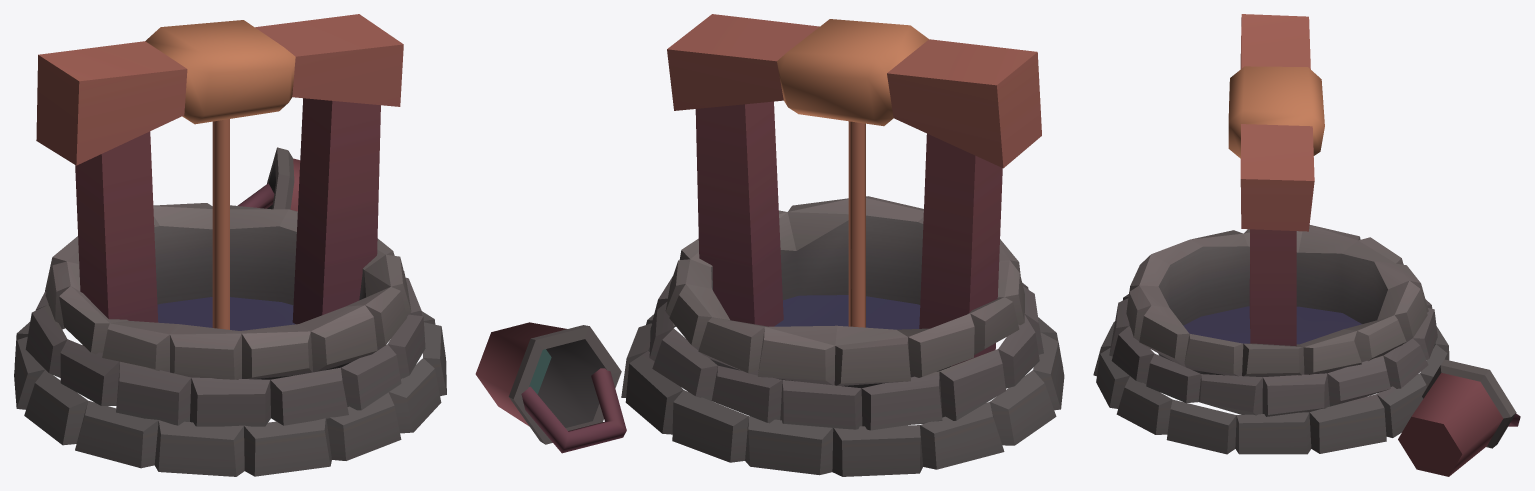
File: well.gltf
3 views of the same model, side by side, from view 1: azimuth 30°, elevation 25°; view 2: azimuth 150°, elevation 25°; view 3: azimuth 270°, elevation 25° (orthographic). The views are drawn at different scales.
Parts seen in each view (by area): view 1: well; view 2: well; view 3: well.
Boxes of the visible parts, x1=… form: well: x1=14, y1=14, x2=446, y2=476; well: x1=475, y1=14, x2=1064, y2=476; well: x1=1093, y1=14, x2=1520, y2=476.
Size of the model in its own units: 0.9228 by 0.7184 by 0.9351.
1 material, 1 textured.
